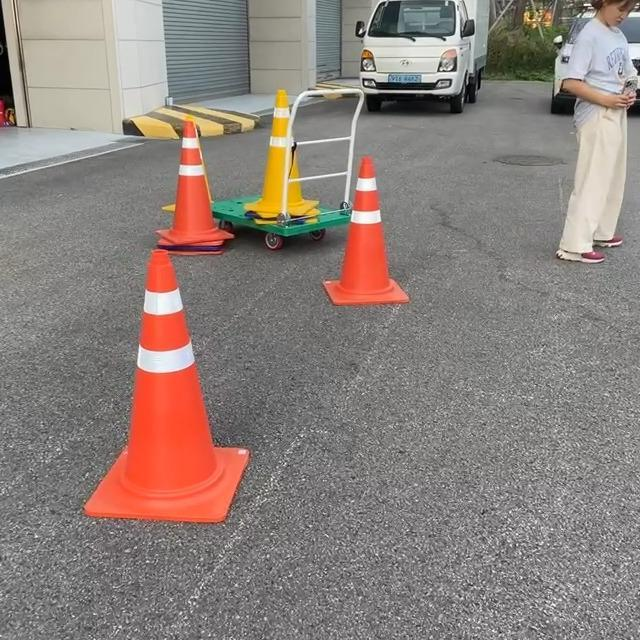fallen_object: (73, 233, 268, 569), (316, 147, 450, 321), (120, 103, 220, 267), (240, 50, 320, 239)
